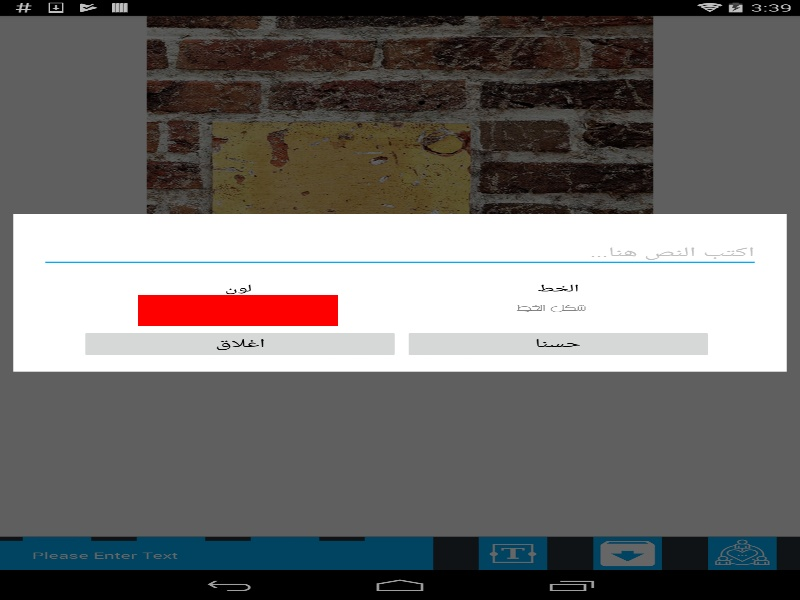Button: (80, 329, 400, 359), (403, 329, 713, 359), (138, 294, 338, 325)
Input: (40, 238, 760, 267)
